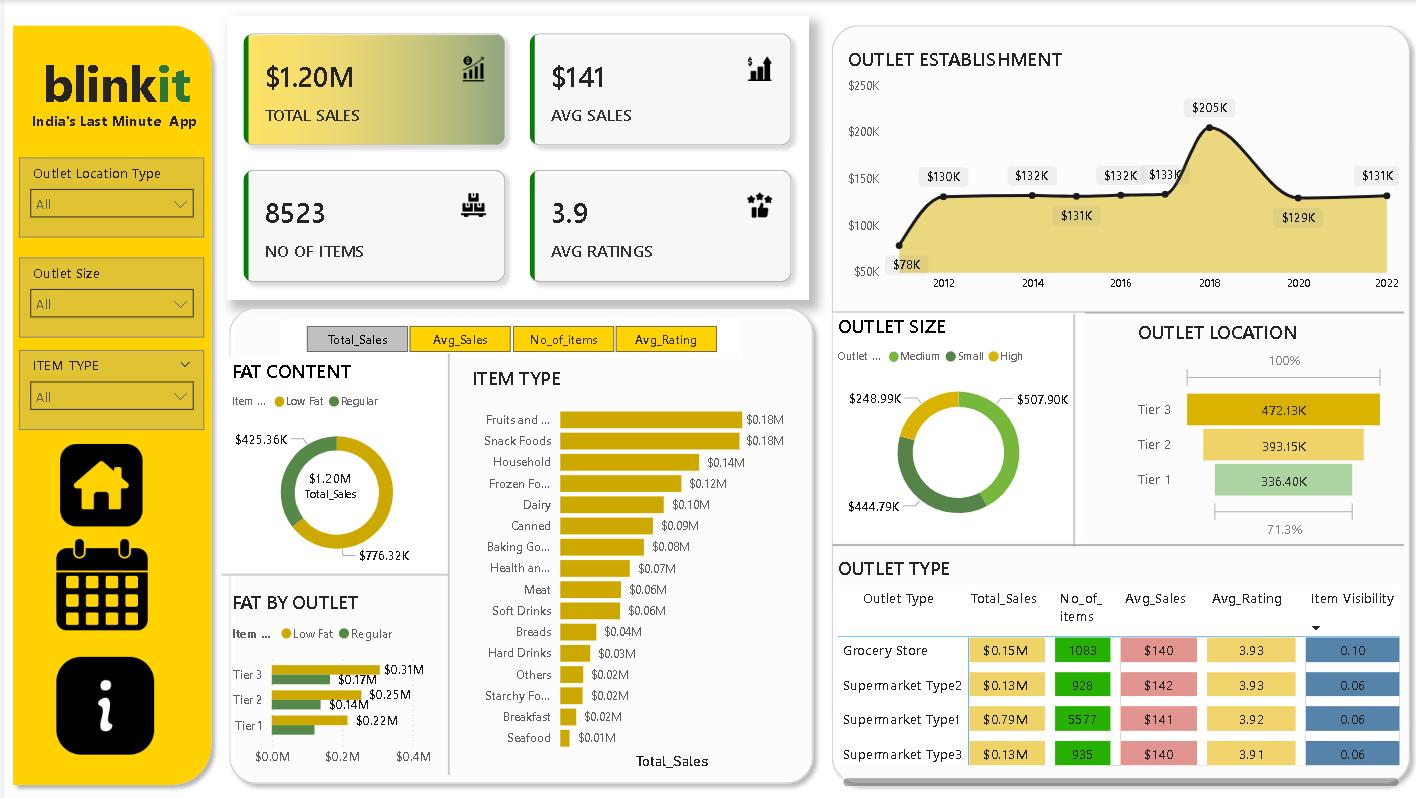

The dashboard page shown, as its layout file describes it:
{"tool":"powerbi","page":{"name":"Page 1","canvas":[1400,800],"ordinal":0},"visuals":[{"type":"shape","box":[0,16,214.7,769.3],"z":0},{"type":"textbox","box":[33,45,172.6,87.1],"z":1000},{"type":"textbox","box":[21.9,104.1,183.6,38.4],"z":2000},{"type":"cardVisual","fields":{"Data":["BlinkIT Grocery Data.Total_Sales","BlinkIT Grocery Data.Avg_Sales","BlinkIT Grocery Data.No_of_items","BlinkIT Grocery Data.Avg_Rating"]},"box":[220.6,16.5,576.3,280.7],"z":3000},{"type":"shape","box":[214.3,295.7,595.7,488.6],"z":4000},{"type":"slicer","fields":{"Values":["Metrics 2.Metrics"]},"box":[273.2,315.2,456.3,39],"z":5000},{"type":"donutChart","title":"FAT CONTENT","fields":{"Y":["BlinkIT Grocery Data.Total_Sales"],"Category":["BlinkIT Grocery Data.Item Fat Content"]},"box":[220.6,354.2,213.1,214.6],"z":6000},{"type":"cardVisual","fields":{"Data":["BlinkIT Grocery Data.Total_Sales"]},"box":[279.2,441.3,88.6,75],"z":7000},{"type":"clusteredBarChart","title":"FAT BY OUTLET","fields":{"Y":["BlinkIT Grocery Data.Total_Sales"],"Series":["BlinkIT Grocery Data.Item Fat Content"],"Category":["BlinkIT Grocery Data.Outlet Location Type"]},"box":[220.6,582.3,219.1,184.6],"z":8000},{"type":"shape","box":[214.6,549.3,225.1,39],"z":9000},{"type":"shape","box":[393.2,357.2,91.6,438.3],"z":10000},{"type":"barChart","title":"ITEM TYPE","fields":{"Y":["BlinkIT Grocery Data.Total_Sales"],"Category":["BlinkIT Grocery Data.Item Type"]},"box":[457.3,361.3,320,405.3],"z":11000},{"type":"shape","box":[810,15.7,590,768.6],"z":12000},{"type":"lineChart","title":"OUTLET ESTABLISHMENT","fields":{"Y":["BlinkIT Grocery Data.Total_Sales"],"Category":["BlinkIT Grocery Data.Outlet Establishment Year"]},"box":[830,45.7,555.7,251.4],"z":13000},{"type":"shape","box":[820,257.3,565.3,104],"z":14000},{"type":"donutChart","title":"OUTLET SIZE","fields":{"Y":["BlinkIT Grocery Data.Total_Sales"],"Category":["BlinkIT Grocery Data.Outlet Size"]},"box":[820,309.3,249.3,225.3],"z":15000},{"type":"shape","box":[1013.3,310.7,92,230.7],"z":16000},{"type":"funnel","title":"OUTLET LOCATION","fields":{"Category":["BlinkIT Grocery Data.Outlet Location Type"],"Y":["Sum(BlinkIT Grocery Data.Sales)"]},"box":[1116.4,315.1,254.8,224.7],"z":17000},{"type":"shape","box":[820.5,487.7,565.8,104.1],"z":18000},{"type":"pivotTable","title":"OUTLET TYPE","fields":{"Rows":["BlinkIT Grocery Data.Outlet Type"],"Values":["BlinkIT Grocery Data.Total_Sales","BlinkIT Grocery Data.No_of_items","BlinkIT Grocery Data.Avg_Sales","BlinkIT Grocery Data.Avg_Rating","Avg(BlinkIT Grocery Data.Item Visibility)"]},"box":[820.5,549.3,565.8,234.2],"z":20000},{"type":"slicer","fields":{"Values":["BlinkIT Grocery Data.Item Type"]},"box":[15.1,346.6,183.6,79.5],"z":23000},{"type":"slicer","fields":{"Values":["BlinkIT Grocery Data.Outlet Size"]},"box":[15.1,254.8,183.6,79.5],"z":23001},{"type":"slicer","fields":{"Values":["BlinkIT Grocery Data.Outlet Location Type"]},"box":[15.1,156.2,183.6,79.5],"z":23002},{"type":"image","box":[50.7,432.9,91.8,94.5],"z":23003},{"type":"image","box":[46.6,642.5,106.8,112.3],"z":23005},{"type":"image","box":[46.6,527.4,100,102.7],"z":23006}]}

Visuals, with their boxes in screenshot pixels (x1, y1, x2, y2), scaled from the page's 1400x800 canvas onto the 1416x798 screenshot:
shape: rect(0, 16, 217, 783)
textbox: rect(33, 45, 208, 132)
textbox: rect(22, 104, 208, 142)
cardVisual - BlinkIT Grocery Data.Total_Sales x BlinkIT Grocery Data.Avg_Sales: rect(223, 16, 806, 296)
shape: rect(217, 295, 819, 782)
slicer - Metrics 2.Metrics: rect(276, 314, 738, 353)
"FAT CONTENT" donutChart: rect(223, 353, 439, 567)
cardVisual - BlinkIT Grocery Data.Total_Sales: rect(282, 440, 372, 515)
"FAT BY OUTLET" clusteredBarChart: rect(223, 581, 445, 765)
shape: rect(217, 548, 445, 587)
shape: rect(398, 356, 490, 794)
"ITEM TYPE" barChart: rect(463, 360, 786, 765)
shape: rect(819, 16, 1415, 782)
"OUTLET ESTABLISHMENT" lineChart: rect(839, 46, 1402, 296)
shape: rect(829, 257, 1401, 360)
"OUTLET SIZE" donutChart: rect(829, 309, 1082, 533)
shape: rect(1025, 310, 1118, 540)
"OUTLET LOCATION" funnel: rect(1129, 314, 1387, 538)
shape: rect(830, 486, 1402, 590)
"OUTLET TYPE" pivotTable: rect(830, 548, 1402, 782)
slicer - BlinkIT Grocery Data.Item Type: rect(15, 346, 201, 425)
slicer - BlinkIT Grocery Data.Outlet Size: rect(15, 254, 201, 333)
slicer - BlinkIT Grocery Data.Outlet Location Type: rect(15, 156, 201, 235)
image: rect(51, 432, 144, 526)
image: rect(47, 641, 155, 753)
image: rect(47, 526, 148, 629)
